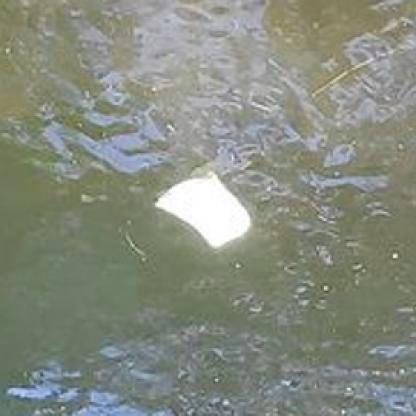Trash: (156, 173, 252, 258)
